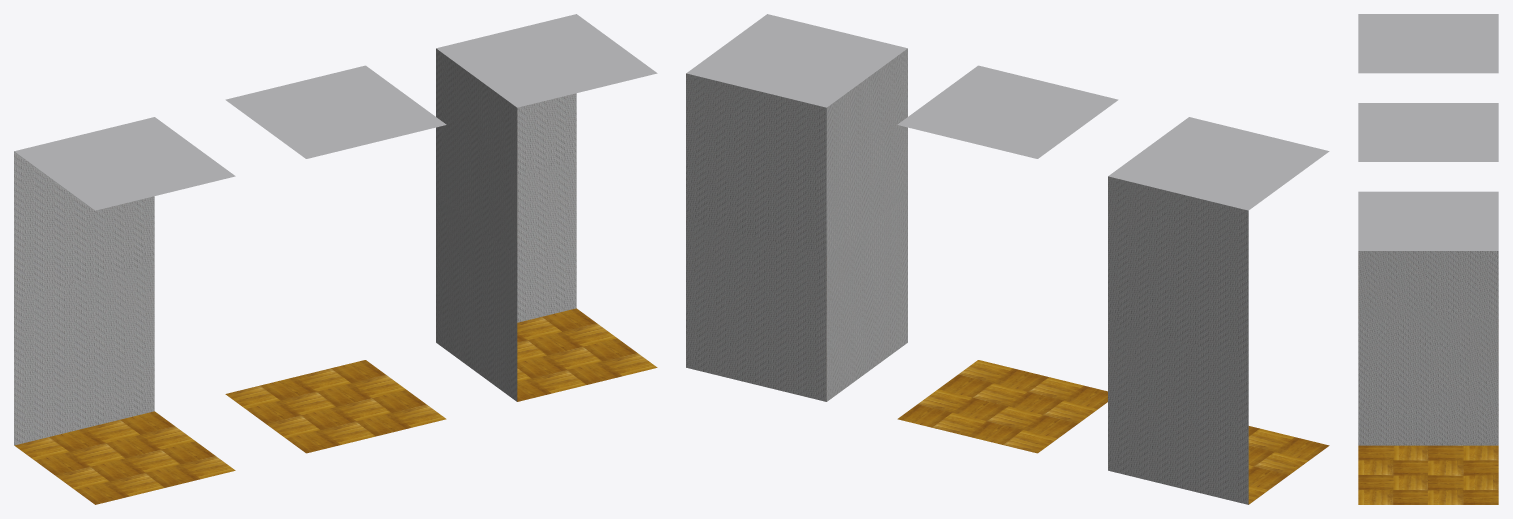
File: LRtileset.glb
3 views of the same model, side by side, from view 1: azimuth 30°, elevation 25°; view 2: azimuth 150°, elevation 25°; view 3: azimuth 270°, elevation 25° (orthographic). The views are drawn at different scales.
Visible parts, largest first — view 1: wall-col, corner-col, ceiling-col; view 2: corner-col, wall-col, ceiling-col; view 3: corner-col, wall-col, ceiling-col.
Boxes of the visible parts, x1,y1,x2,y2 form: wall-col: (14,117,235,504); corner-col: (436,14,657,401); ceiling-col: (225,65,446,453); corner-col: (686,14,907,401); wall-col: (1108,117,1329,504); ceiling-col: (897,65,1118,453); corner-col: (1358,191,1498,504); wall-col: (1358,14,1498,73); ceiling-col: (1358,103,1498,161).
Size of the model in its own units: 4 by 2 by 1.
Materials: 2 (1 with a texture image).
